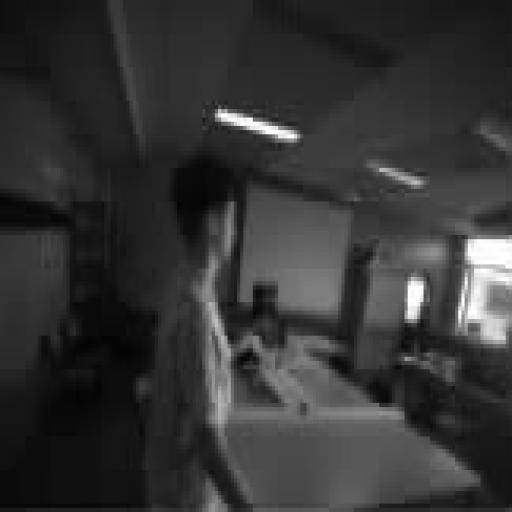human: (146, 156, 249, 511)
